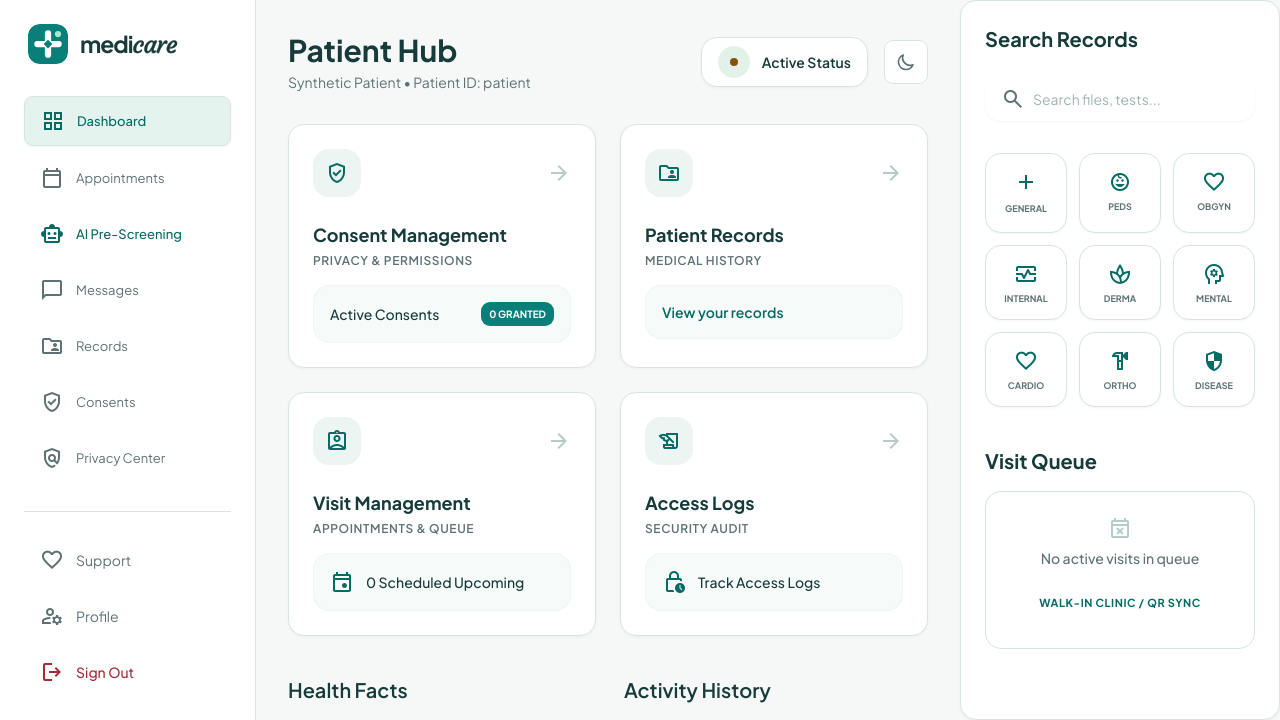
Test: the patient dashboard opens the real messages inbox
Click the link "Messages" at (89, 290), box [40,276,139,304]
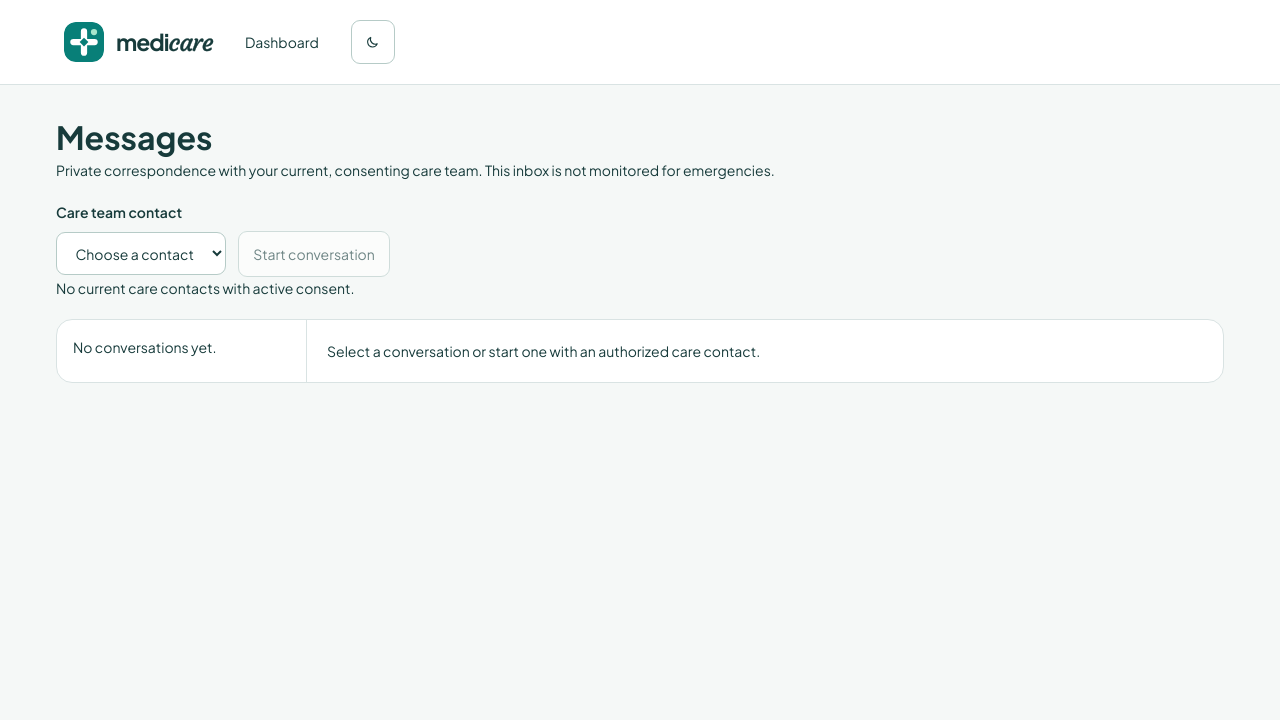
Now the text "No conversations yet." is shown, box [73,338,216,356]
